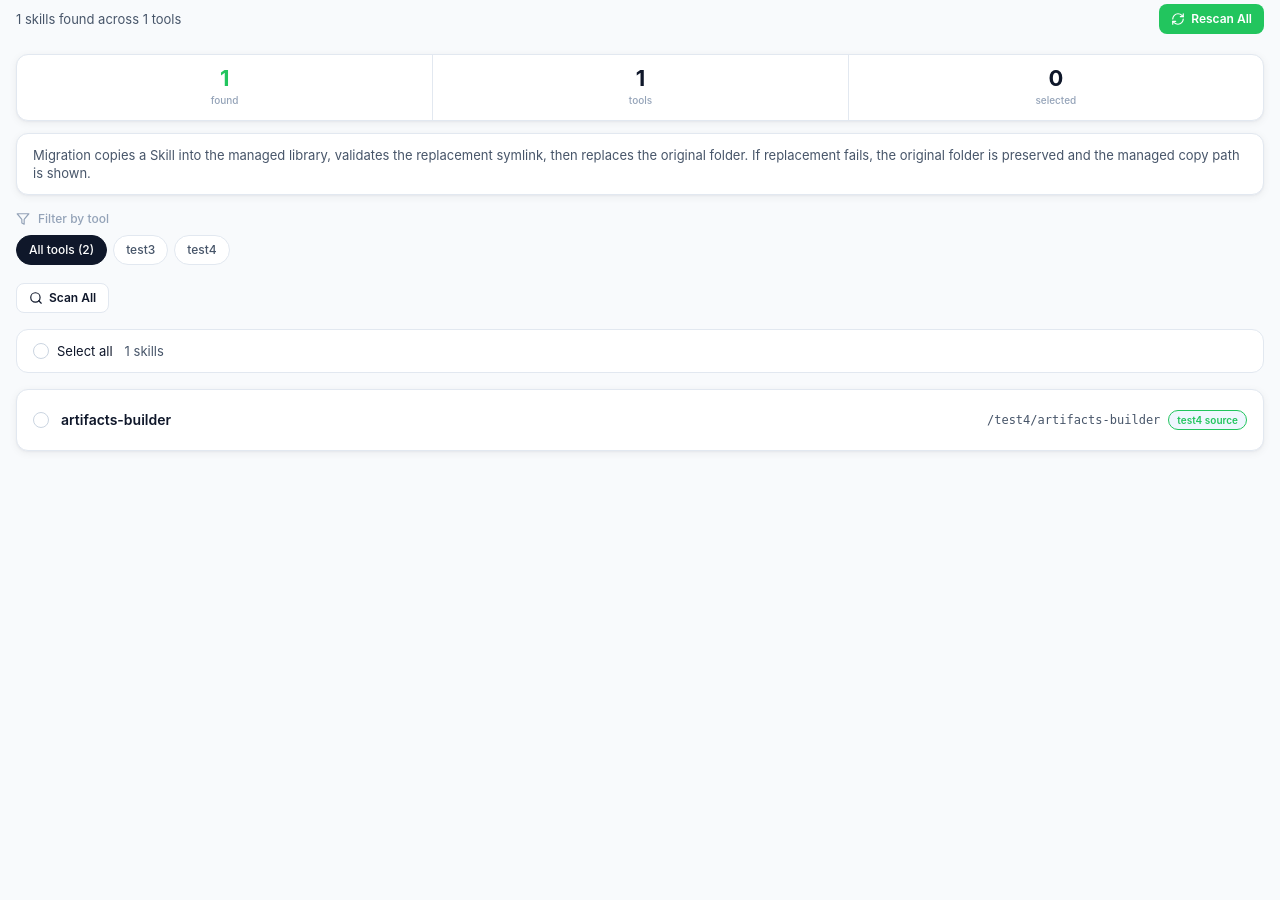
Test case: MigratePage › summarizes repeated sync failures and shows details in a dialog
Expected: the text "artifacts-builder" is shown, x1=61 y1=411 x2=171 y2=428
Click the checkbox named "Select artifacts-builder".
click(41, 420)  # box x1=33 y1=412 x2=49 y2=428
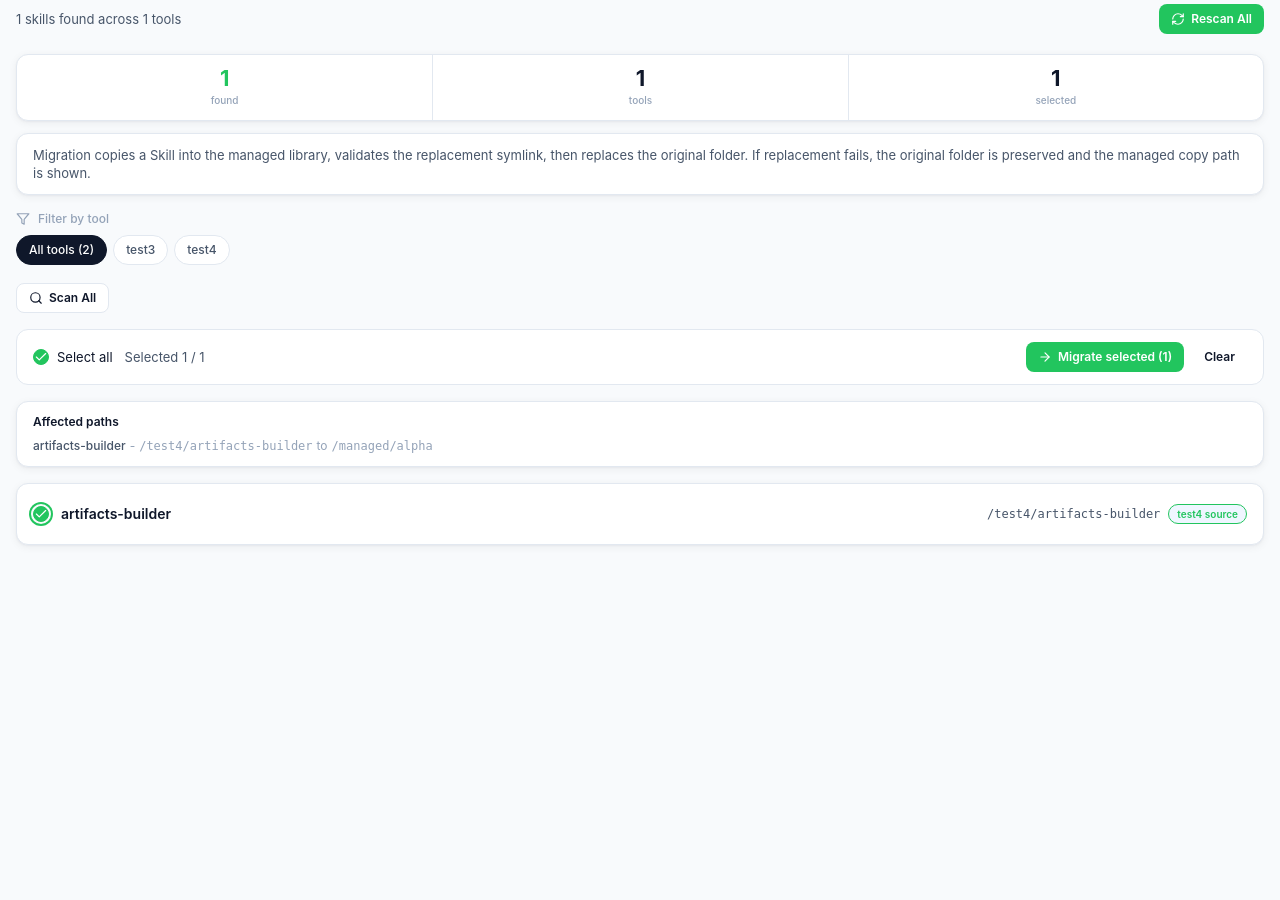
Click the button "Migrate selected (1)".
click(1105, 357)  # box x1=1026 y1=342 x2=1184 y2=372
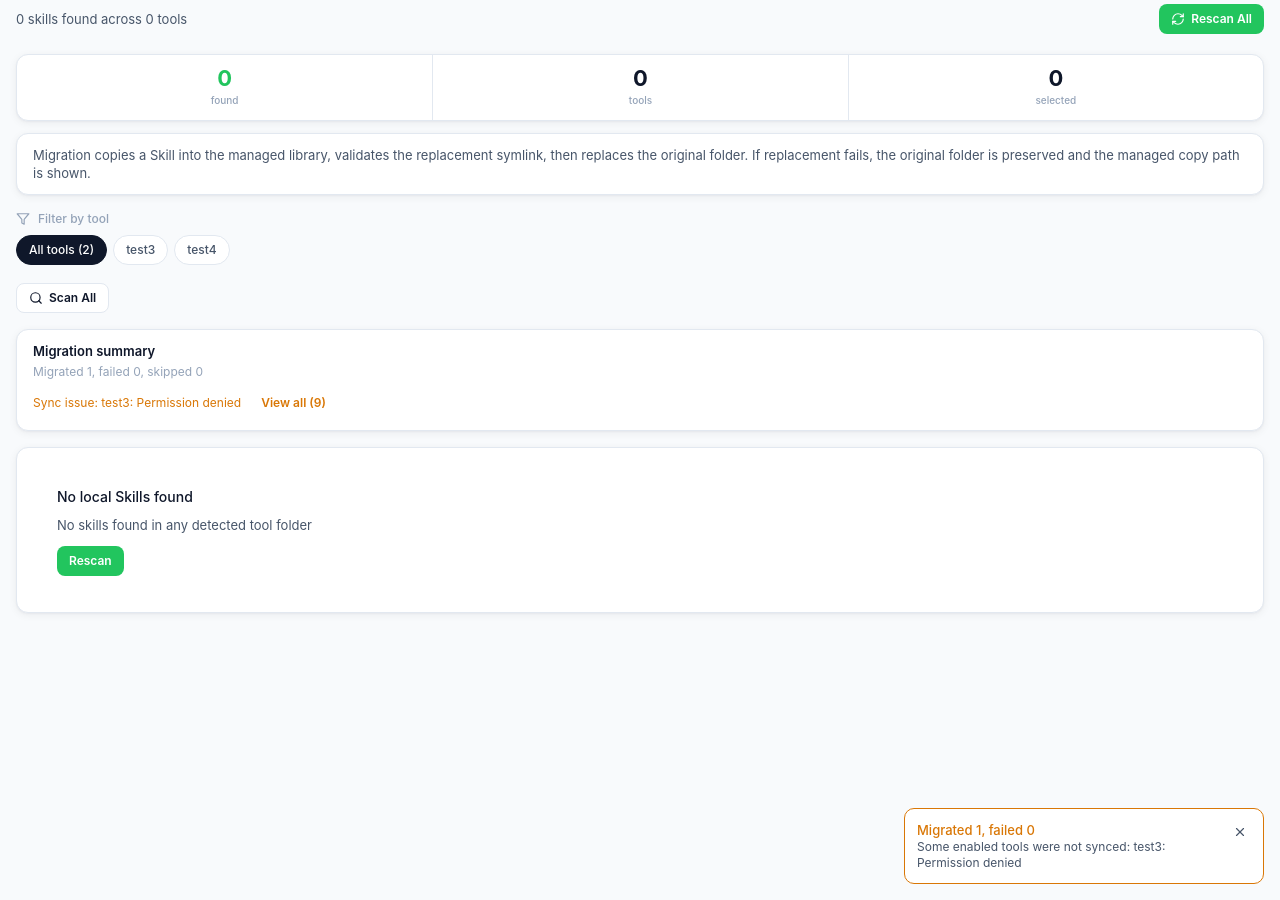
Expected: the text "Sync issue: test3: Permission denied" is shown, x1=33 y1=395 x2=241 y2=411
Click the button "View all (9)".
click(294, 403)  # box x1=249 y1=388 x2=338 y2=418
(page scrolled)
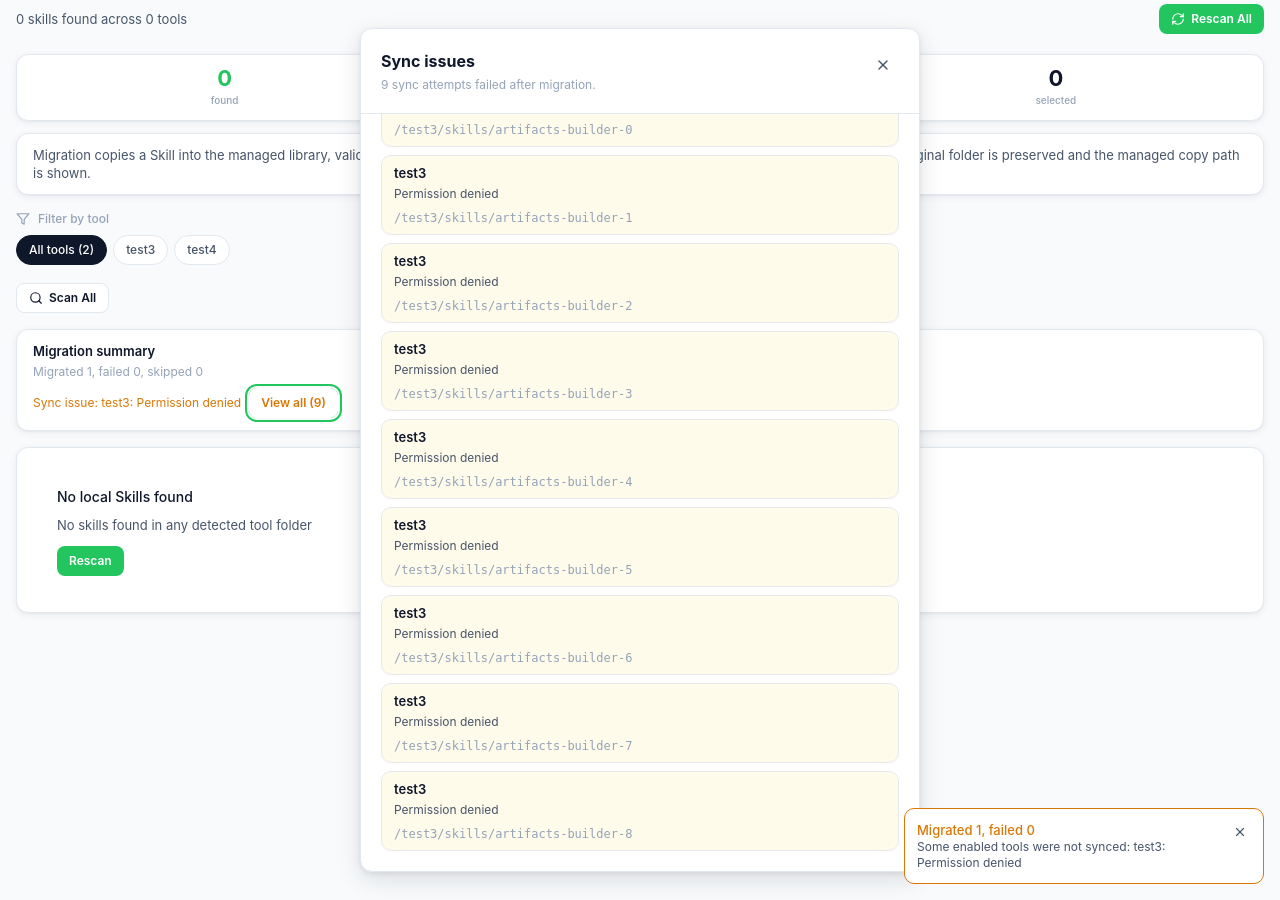
Expected: the dialog "Sync issues" is shown, x1=360 y1=28 x2=920 y2=872
Expected: the text "9 sync attempts failed after migration." is shown, x1=381 y1=77 x2=596 y2=93
Expected: the text "/test3/skills/artifacts-builder-0" is shown, x1=394 y1=123 x2=632 y2=137
